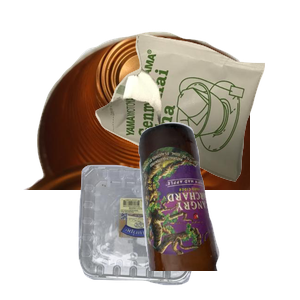glass: (136, 120, 300, 300)
metal: (21, 29, 261, 209)
plastic: (76, 162, 264, 300)
trash: (93, 31, 300, 205)
